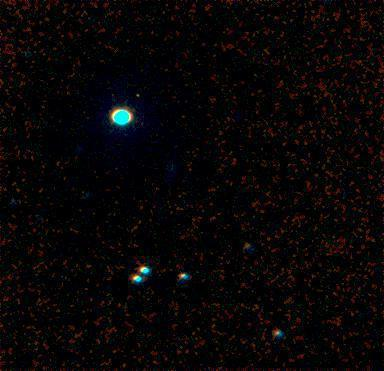star: (122, 78, 152, 108)
